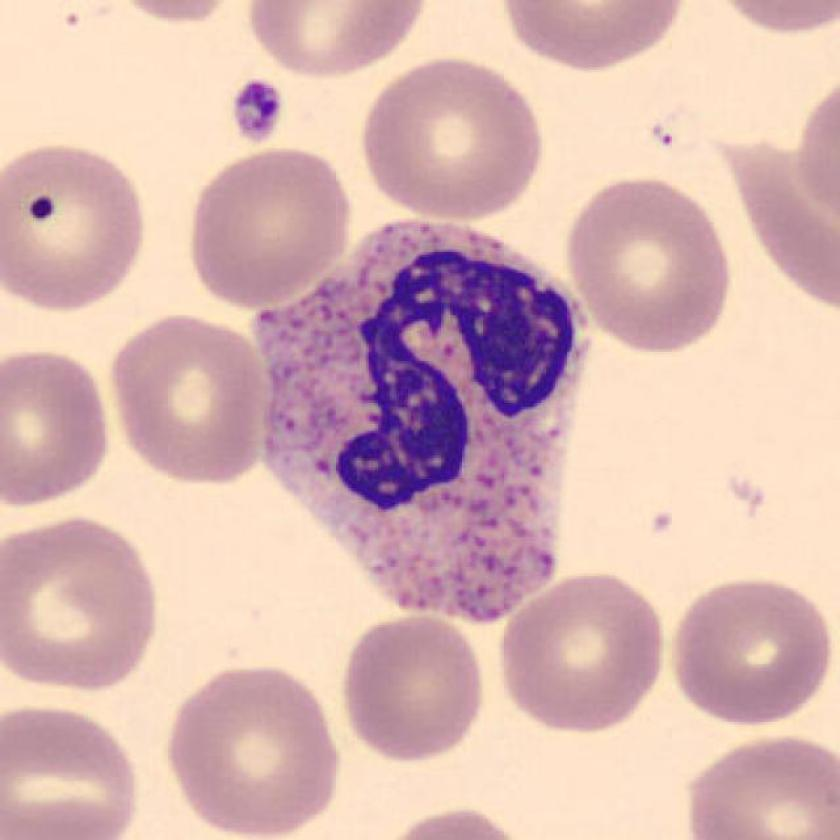neutrophil: (255, 220, 591, 613)
